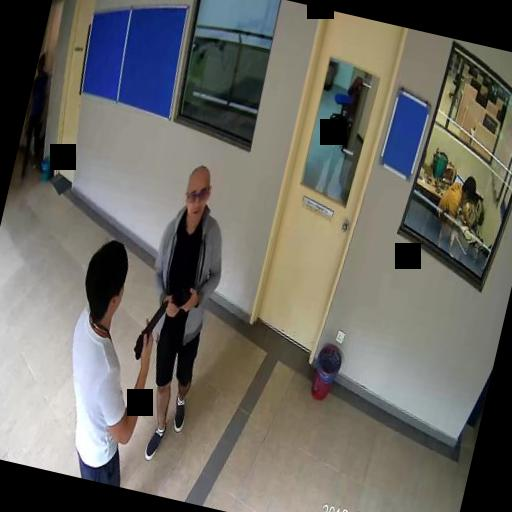Handgun: (131, 294, 168, 363)
